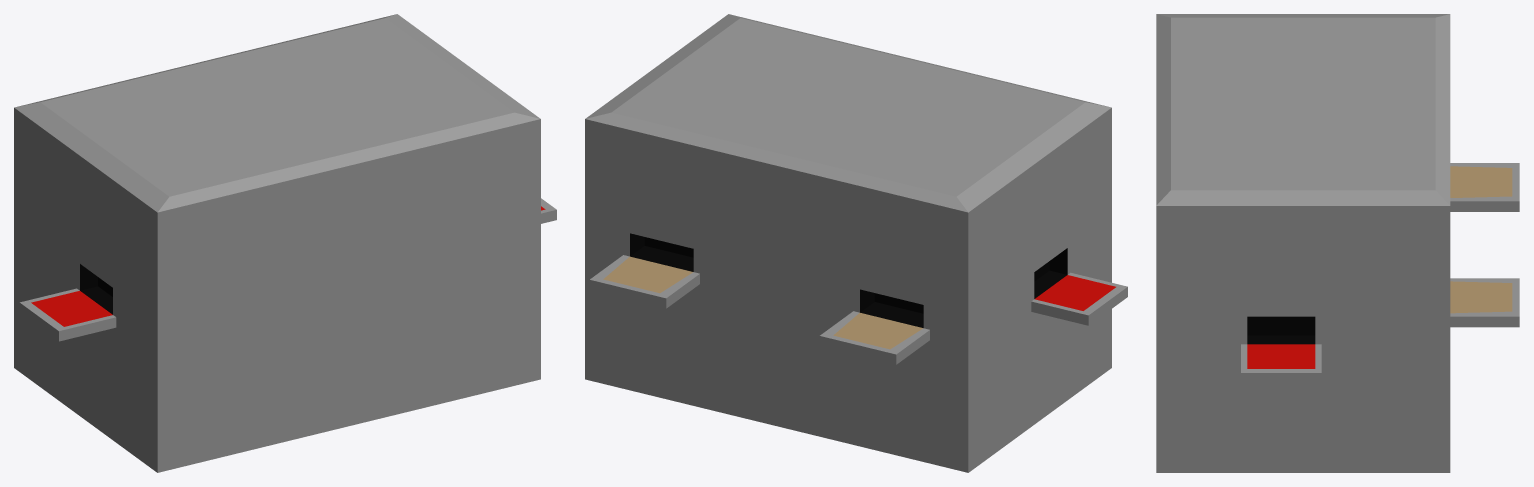
File: Oven.fbx
The picture shows the model from 3 angles, left to right: view 1: azimuth 30°, elevation 25°; view 2: azimuth 150°, elevation 25°; view 3: azimuth 270°, elevation 25°; orthographic projection. The views are drawn at different scales.
Parts seen in each view (by area): view 1: Cube.004; view 2: Cube.004; view 3: Cube.004.
Boxes of the visible parts, x1,y1,x2,y2 form: Cube.004: (14, 14, 556, 472); Cube.004: (585, 14, 1127, 472); Cube.004: (1156, 14, 1519, 472).
Size of the model in its own units: 887 by 453 by 547.
